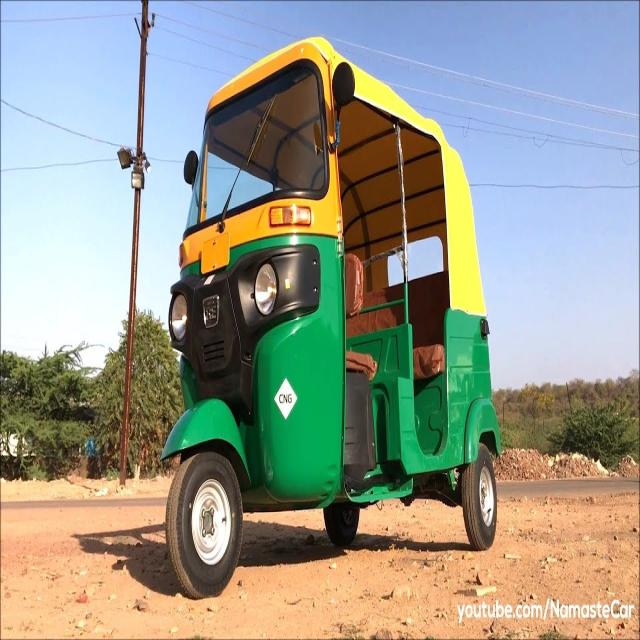autorickshaw: (162, 38, 500, 594)
